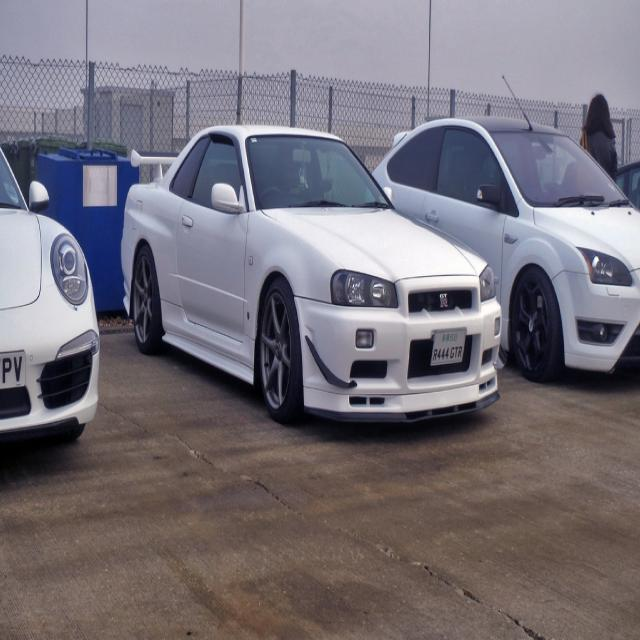car: (121, 124, 501, 425)
